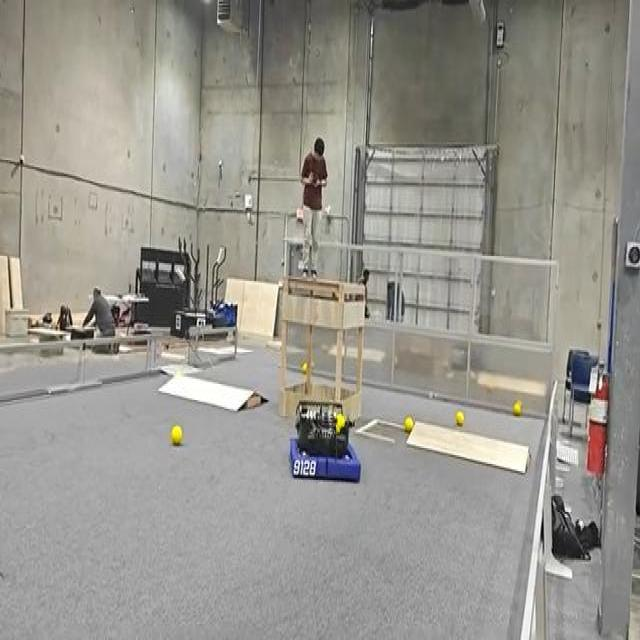Fuel: (171, 425, 182, 445), (171, 425, 181, 444), (336, 414, 345, 432), (404, 417, 414, 433), (404, 416, 413, 432), (455, 411, 464, 425), (513, 401, 521, 416), (456, 411, 464, 426), (513, 400, 521, 414), (302, 363, 308, 373)
